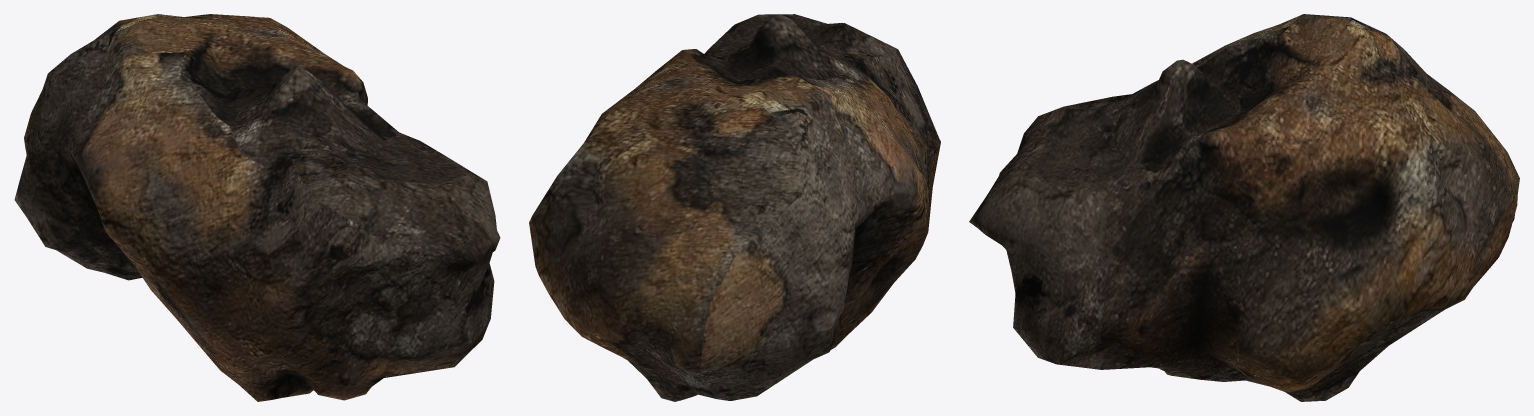
The model's file is rock_2x3.dae.
3 views of the same model, side by side, from view 1: azimuth 30°, elevation 25°; view 2: azimuth 150°, elevation 25°; view 3: azimuth 270°, elevation 25° (orthographic). The views are drawn at different scales.
Parts seen in each view (by area): view 1: rock_2x3; view 2: rock_2x3; view 3: rock_2x3.
Boxes of the visible parts, box(x1,y1,x2,y2) form: rock_2x3: box(14, 14, 500, 401); rock_2x3: box(529, 14, 940, 401); rock_2x3: box(969, 14, 1519, 401).
Size of the model in its own units: 6.08 by 8.93 by 5.85.
1 material, 1 textured.
